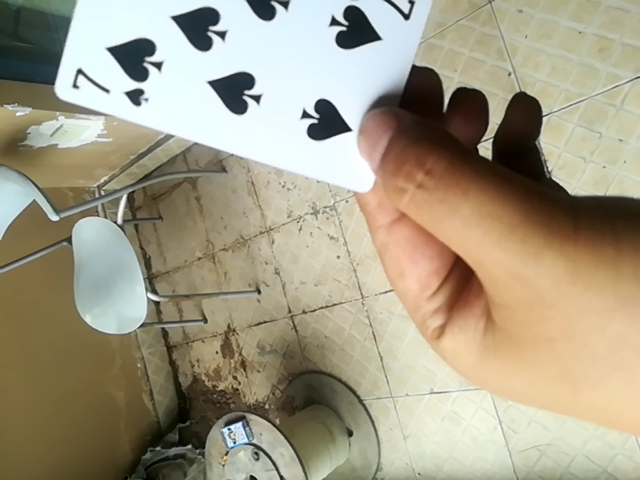ht 7: (43, 0, 442, 199)
